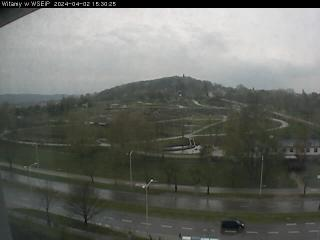car: (219, 216, 245, 231)
